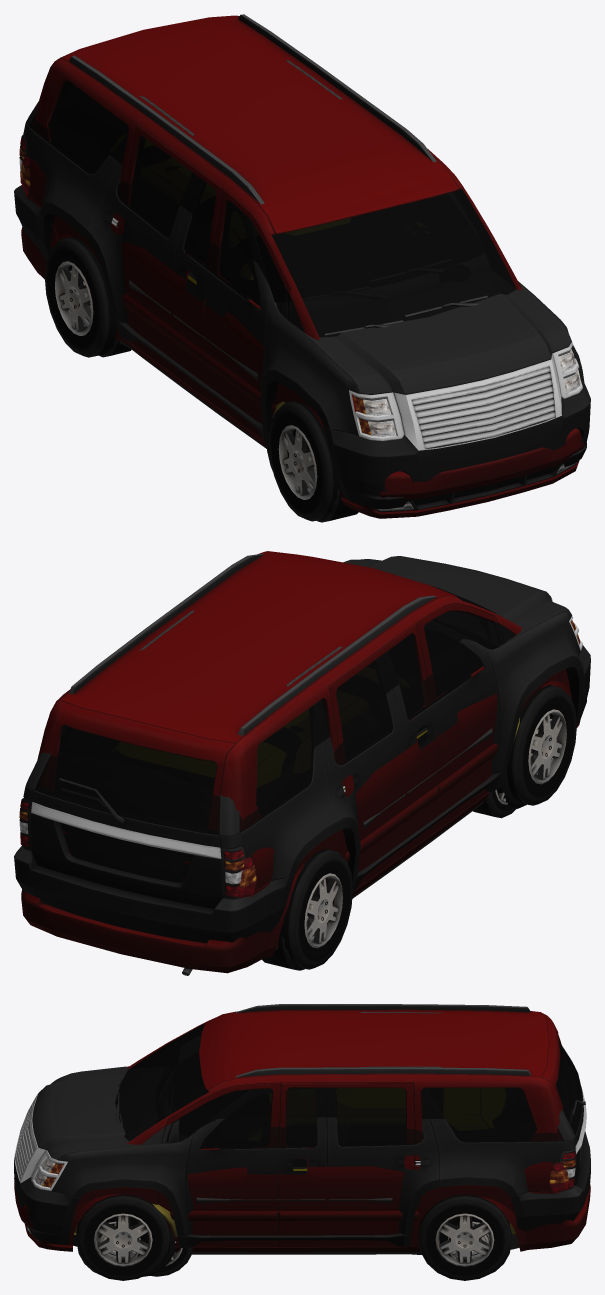
The model's file is realistic-passenger-fleet.glb.
The picture shows the model from 3 angles, top to bottom: view 1: azimuth 30°, elevation 25°; view 2: azimuth 150°, elevation 25°; view 3: azimuth 270°, elevation 25°; orthographic projection. The views are drawn at different scales.
Visible parts, largest first — view 1: Minivan, SUV, SUV_Wheel_E003_Wheel_0.001, SUV_Wheel_E002_Wheel_0.001; view 2: Minivan, SUV, SUV_Wheel_E003_Wheel_0.001, SUV_Wheel_E002_Wheel_0.001, Sedan, Hatchback; view 3: Minivan, SUV, SUV_Wheel_E001_Wheel_0.001, SUV_Wheel_E_Wheel_0.001, Sedan, Hatchback.
Part boxes in pixels (bbox=[...]): Minivan: bbox=[21, 14, 584, 522]; SUV: bbox=[14, 59, 590, 508]; SUV_Wheel_E003_Wheel_0.001: bbox=[44, 236, 115, 357]; SUV_Wheel_E002_Wheel_0.001: bbox=[268, 400, 340, 521]; Minivan: bbox=[21, 551, 580, 975]; SUV: bbox=[14, 556, 590, 943]; SUV_Wheel_E003_Wheel_0.001: bbox=[280, 848, 352, 969]; SUV_Wheel_E002_Wheel_0.001: bbox=[506, 685, 576, 805]; Sedan: bbox=[276, 718, 536, 949]; Hatchback: bbox=[344, 725, 516, 818]; Minivan: bbox=[14, 1004, 590, 1276]; SUV: bbox=[14, 1012, 590, 1262]; SUV_Wheel_E001_Wheel_0.001: bbox=[418, 1194, 511, 1280]; SUV_Wheel_E_Wheel_0.001: bbox=[76, 1194, 170, 1280]; Sedan: bbox=[73, 1158, 519, 1276]; Hatchback: bbox=[150, 1159, 415, 1276].
Size of the model in its own units: 1.81 by 1.76 by 4.61.
Materials: 16 (12 with a texture image).
